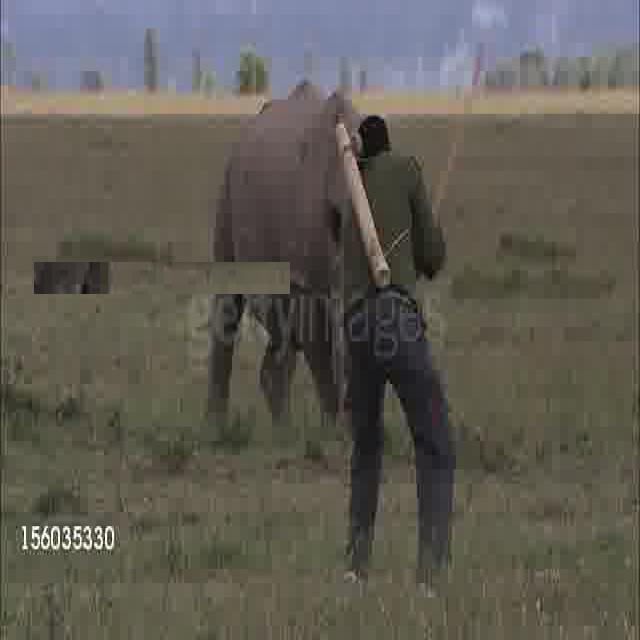poacher: (219, 178, 422, 628)
weapon: (34, 262, 290, 294)
